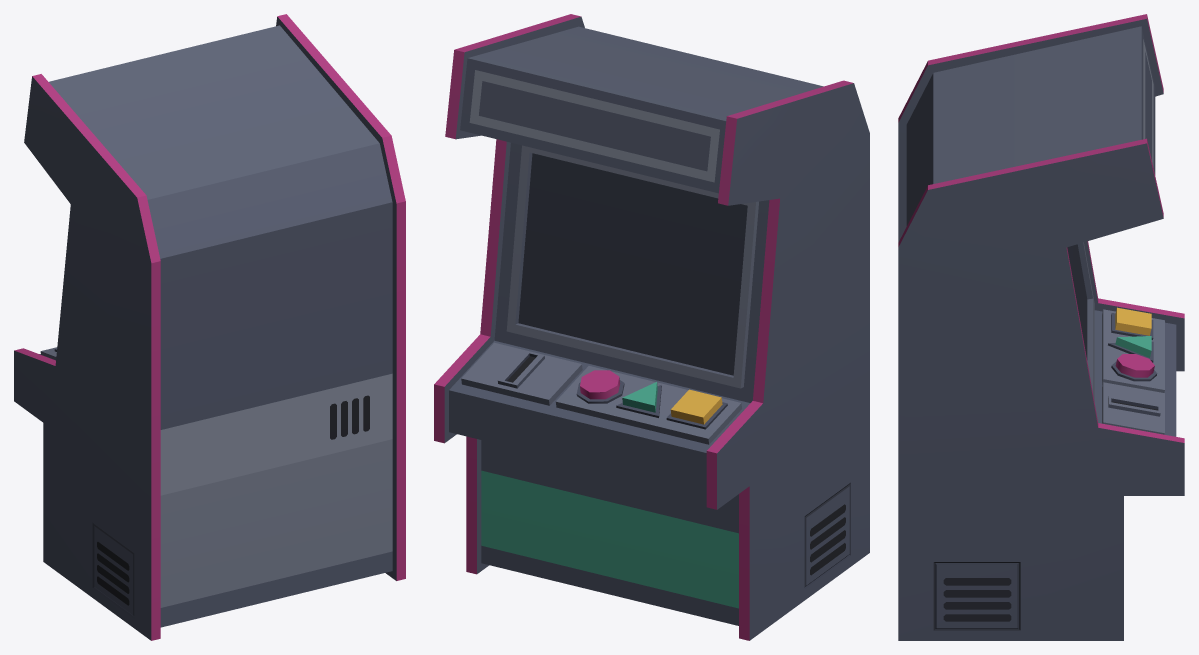
The model's file is squidgame_props_arcademachine.fbx.
3 views of the same model, side by side, from view 1: azimuth 30°, elevation 25°; view 2: azimuth 150°, elevation 25°; view 3: azimuth 270°, elevation 25° (orthographic). The views are drawn at different scales.
Visible parts, largest first — view 1: squidgame_props_arcademachine; view 2: squidgame_props_arcademachine; view 3: squidgame_props_arcademachine.
Part boxes in pixels (<box>): squidgame_props_arcademachine: <box>14,14,405,640</box>; squidgame_props_arcademachine: <box>434,14,869,640</box>; squidgame_props_arcademachine: <box>898,14,1184,640</box>.
Bounding box in the file's own units: 1.01 × 1.8 × 0.9405.
